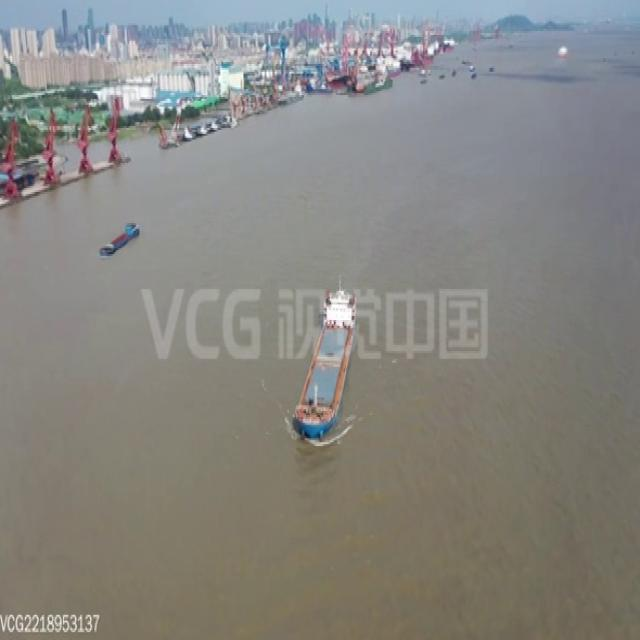cargoship: (290, 274, 360, 440), (95, 216, 140, 262)
